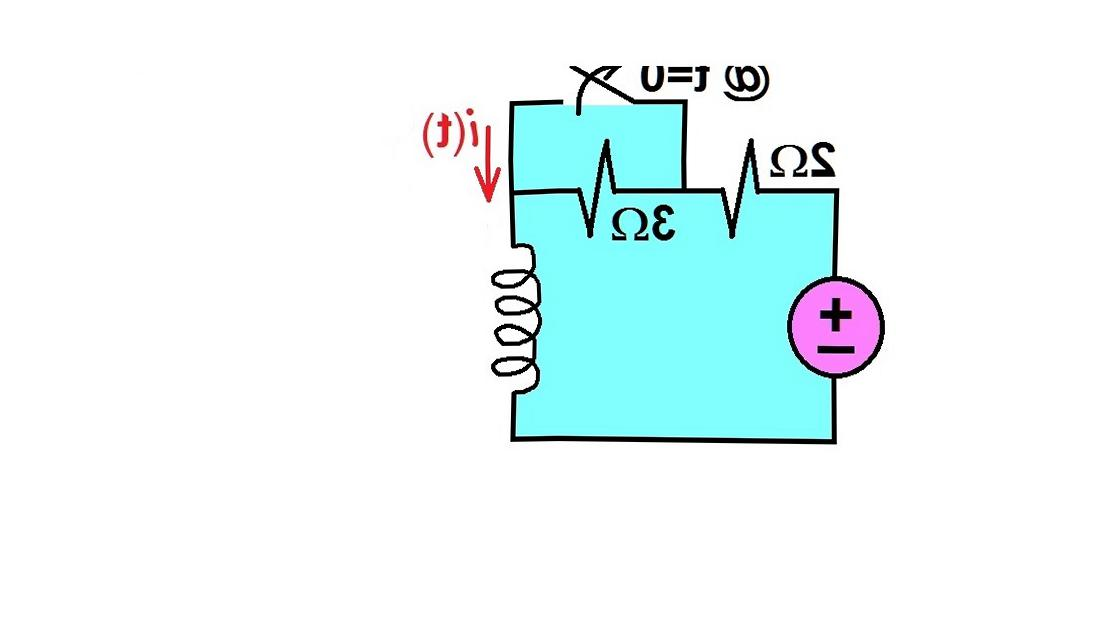Battery: (738, 239, 925, 408)
